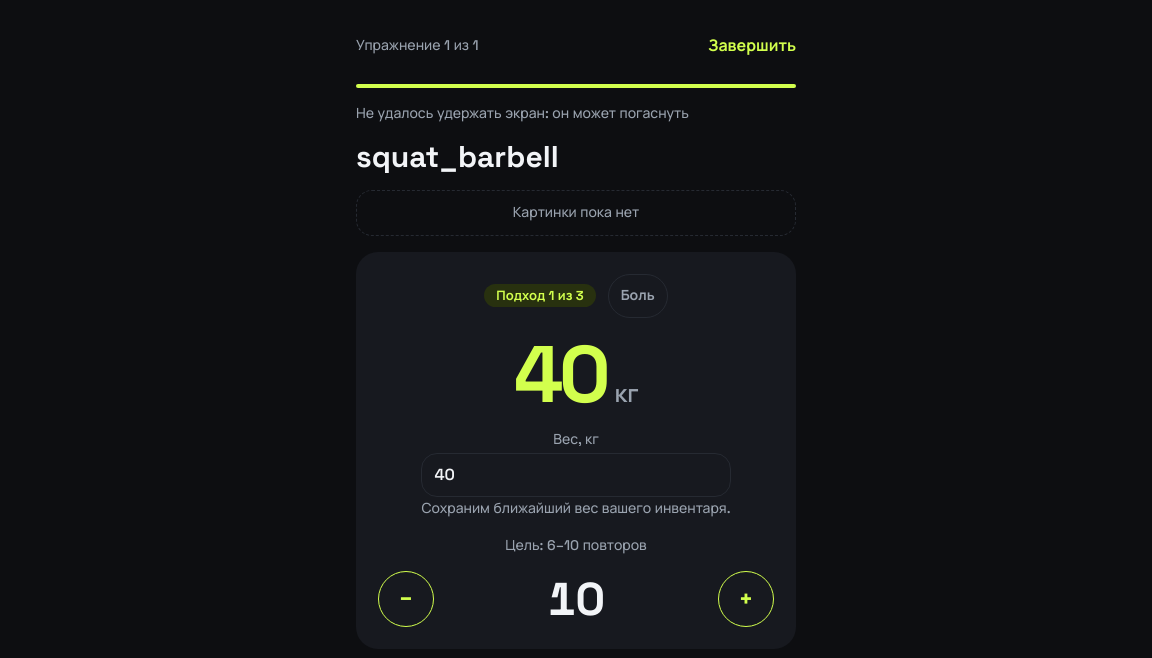
Test case: завершение тренировки › ответ без notice или без недели: сводка есть, строки «План обновлён» нет
Click the button with aria-label "Завершить тренировку": (752, 46) [708,24,796,68]
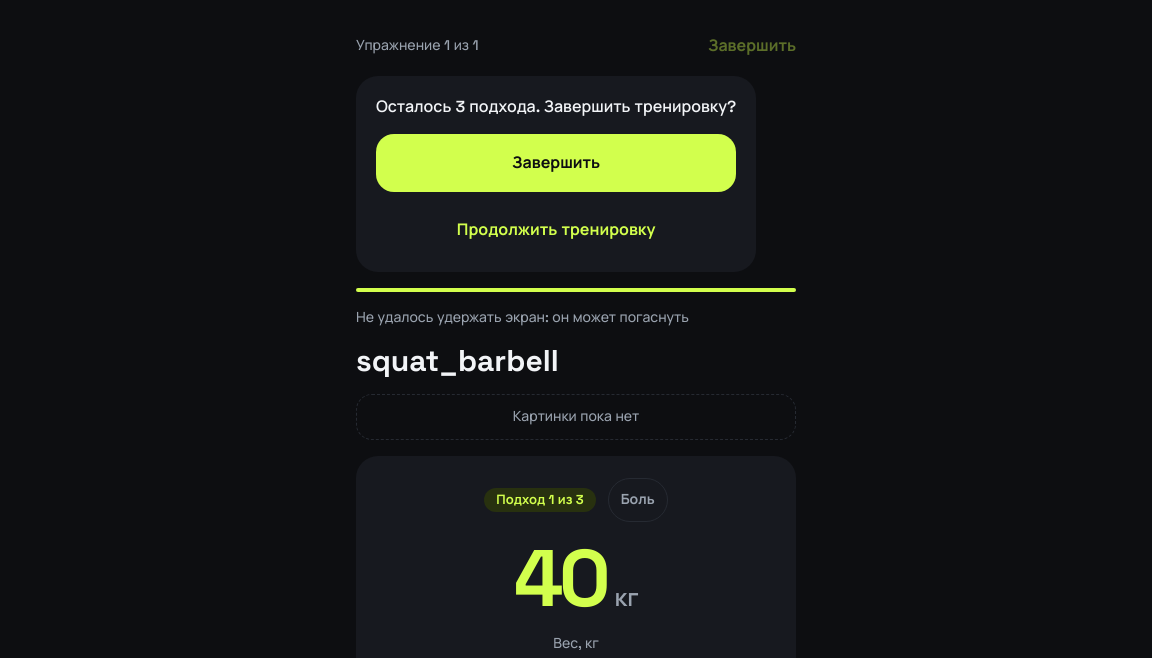
Click the button "Завершить" below "Осталось": (556, 163) [376,134,736,192]
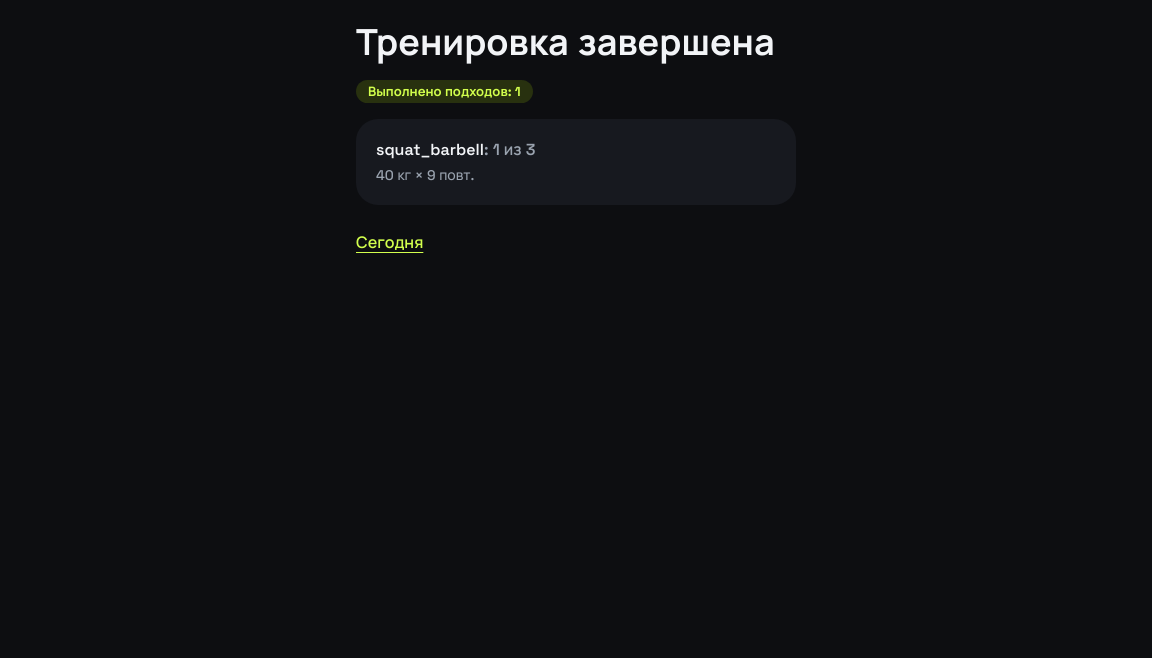
Expected: the element with test id "summary" is shown, [356,24,796,205]
